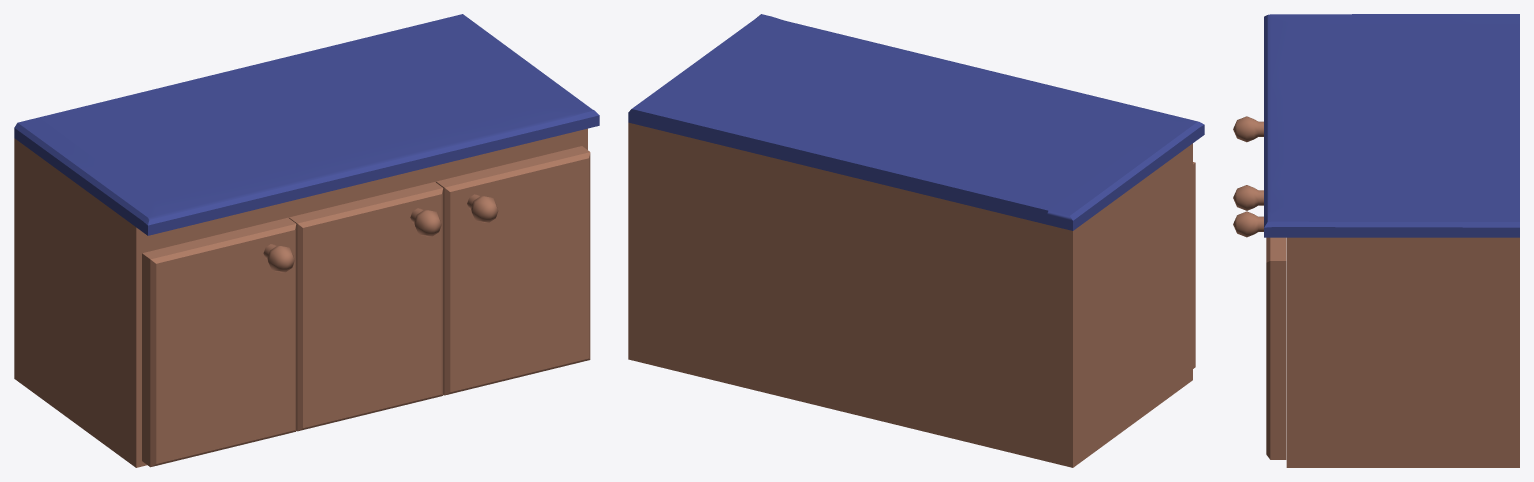
The model's file is Counter.fbx.
3 views of the same model, side by side, from view 1: azimuth 30°, elevation 25°; view 2: azimuth 150°, elevation 25°; view 3: azimuth 270°, elevation 25° (orthographic). The views are drawn at different scales.
Visible parts, largest first — view 1: Barr; view 2: Barr; view 3: Barr.
Part boxes in pixels (box(x1,y1,x2,y2)): Barr: box(14, 14, 599, 467); Barr: box(628, 14, 1204, 467); Barr: box(1233, 14, 1519, 467).
Size of the model in its own units: 184 by 99.23 by 106.
